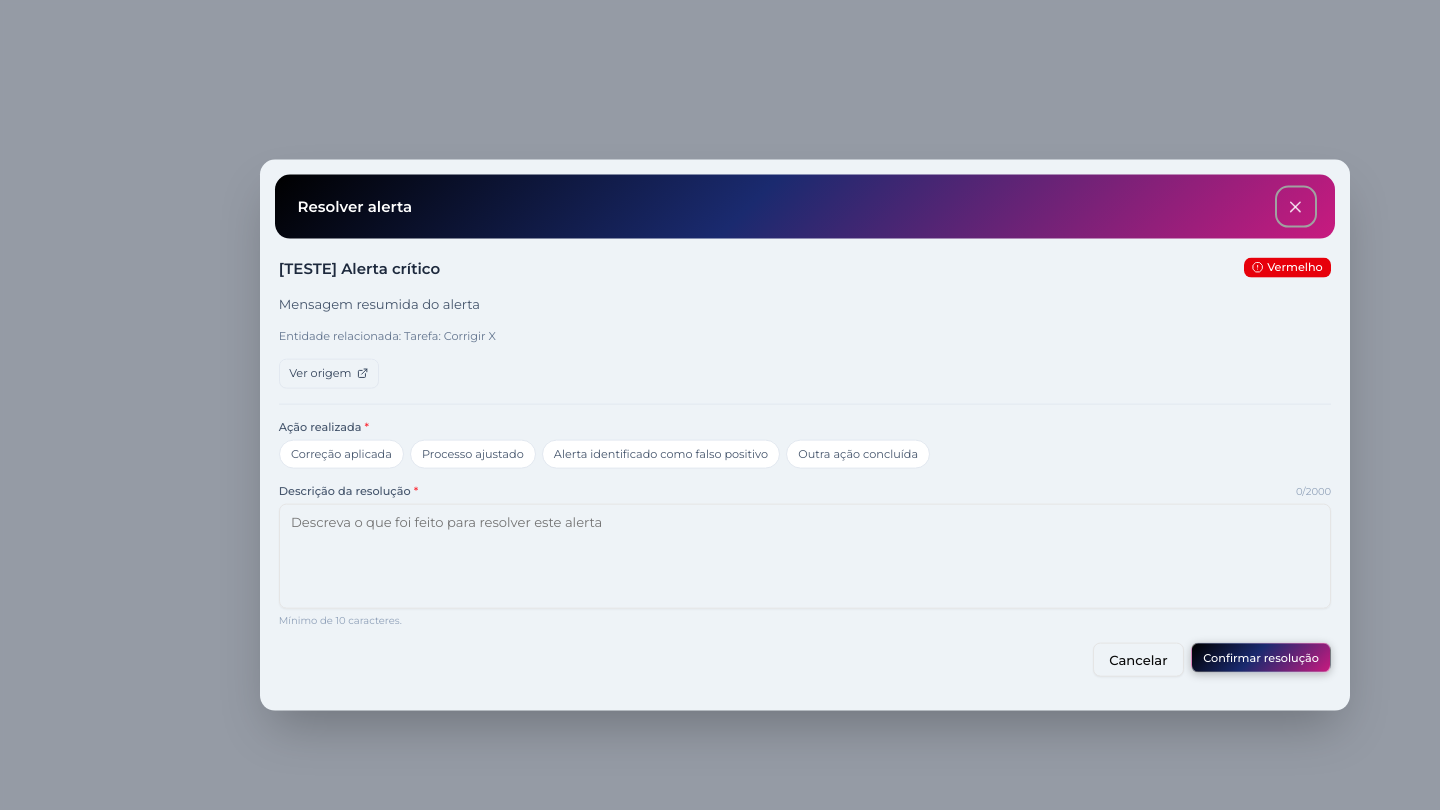
Test: AlertResolveModal › 8. tamanho mínimo — descrição curta (< 10 caracteres reais) é rejeitada
Click the button "Correção aplicada" at (342, 454), box [279, 440, 404, 468]
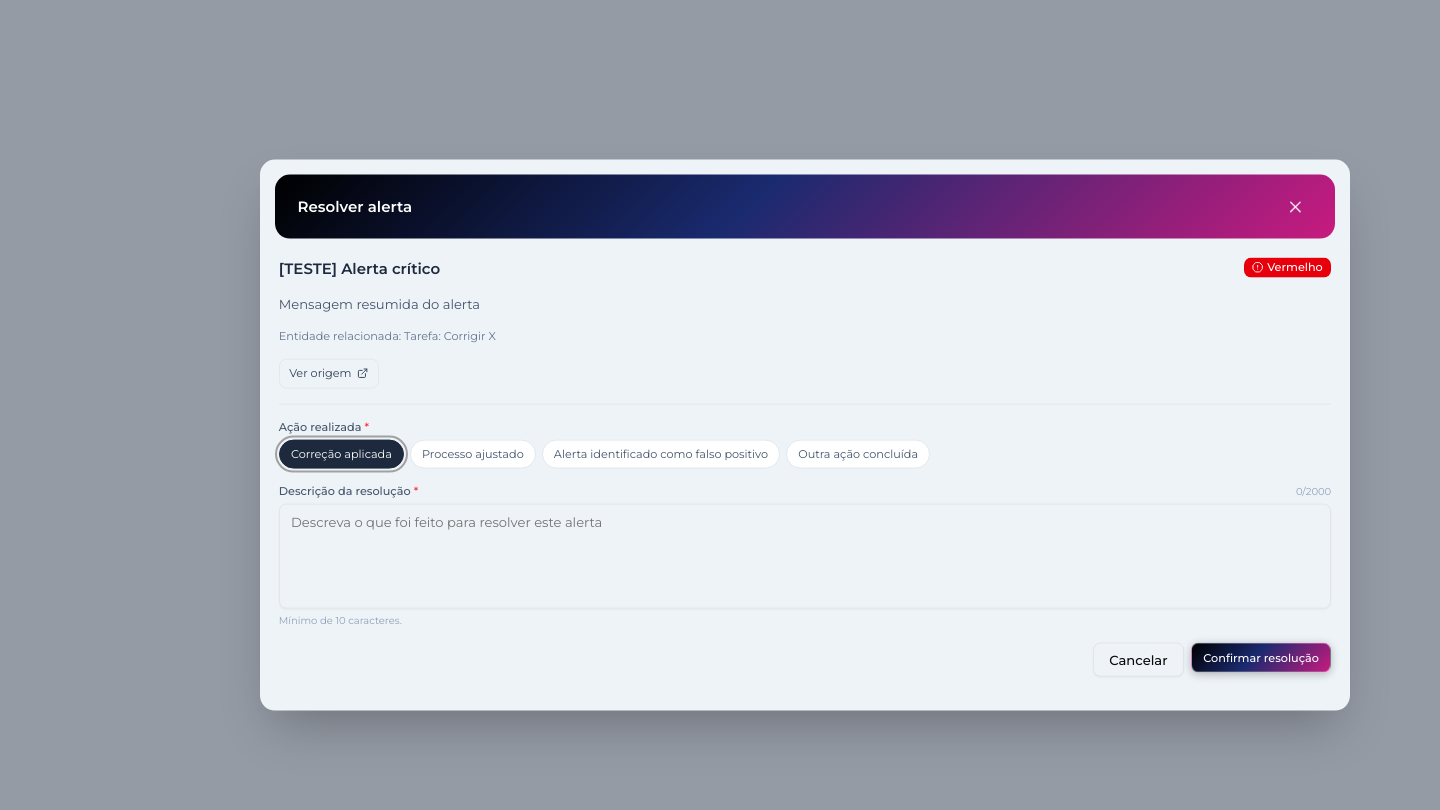
Type "curta" into the text box with placeholder "Descreva o que foi feito para resolver este alerta" at (805, 556), box [279, 504, 1331, 609]
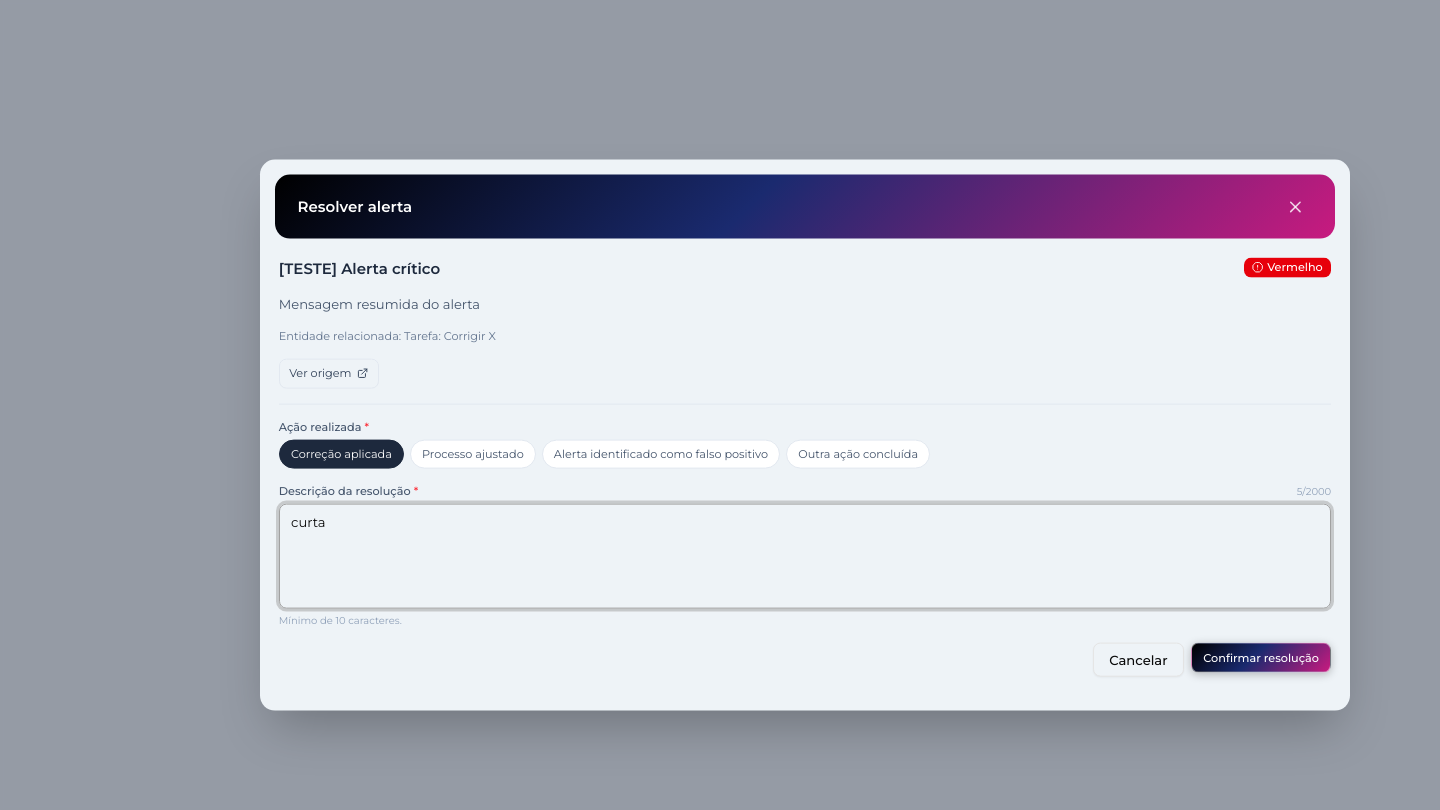
Click the button "Confirmar resolução" at (1261, 658), box [1191, 643, 1331, 673]
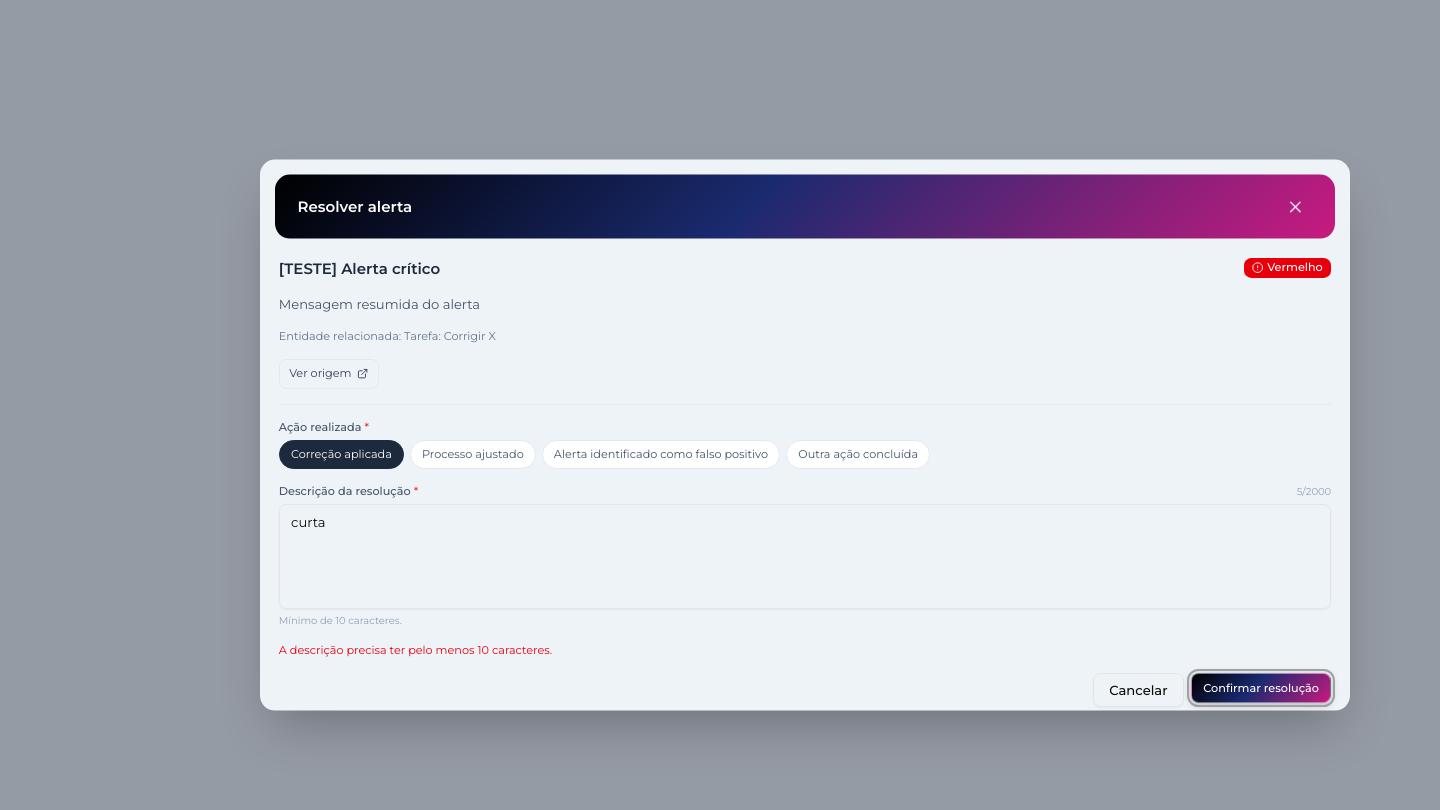
expect the text "A descrição precisa ter pelo menos 10 caracteres." is shown: met, box [279, 643, 552, 657]
